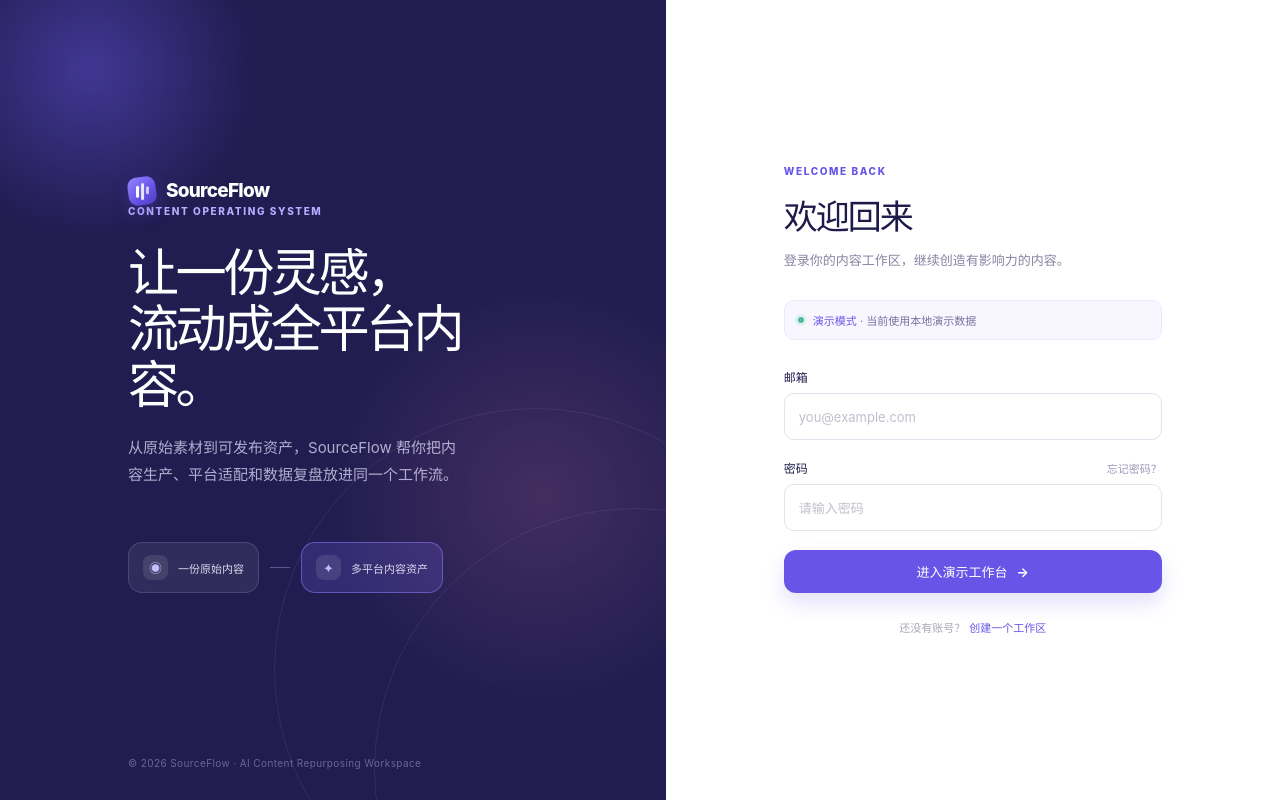
it: SourceFlow Web 首屏 › 拒绝过短密码并保留登录页
In the field labelled "邮箱": (973, 416) 784,393 -> 1162,440, type "creator@sourceflow.local"
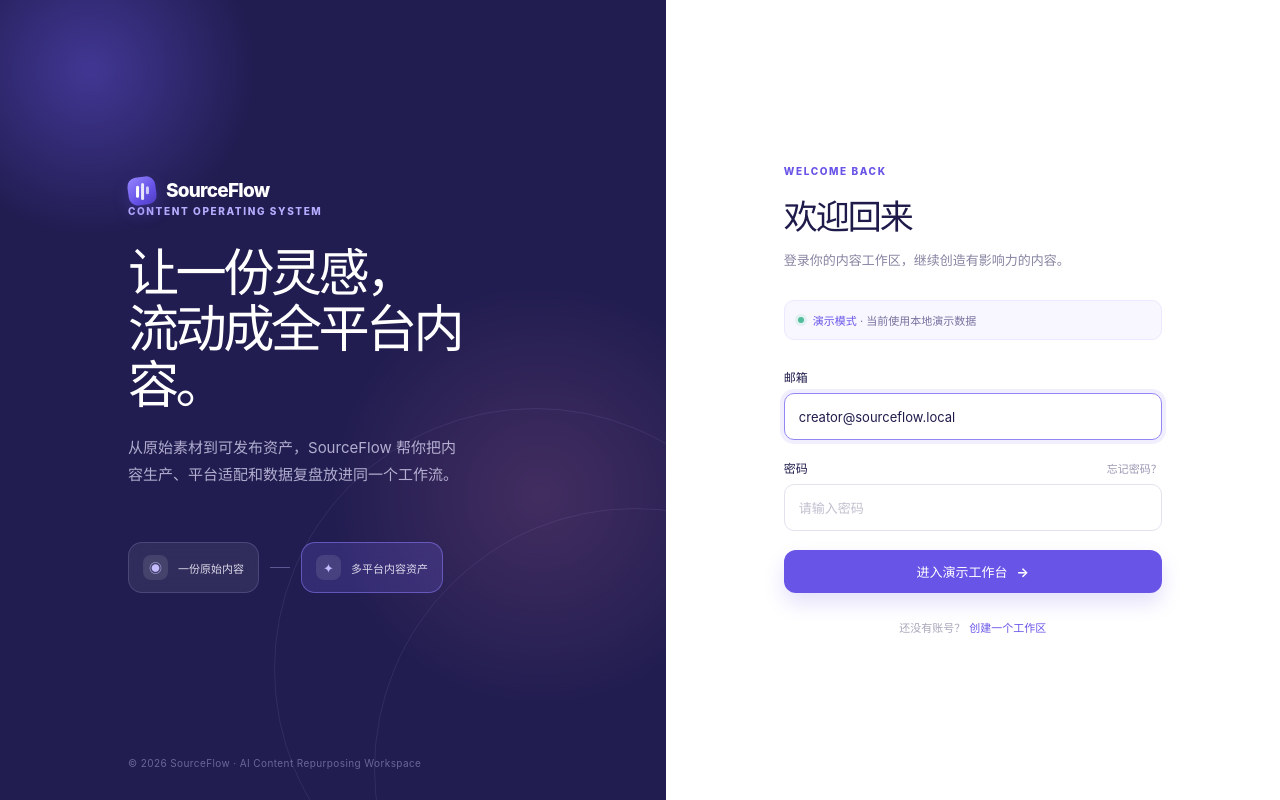
In the password field labelled "密码": (973, 508) 784,484 -> 1162,531, type "1234567"
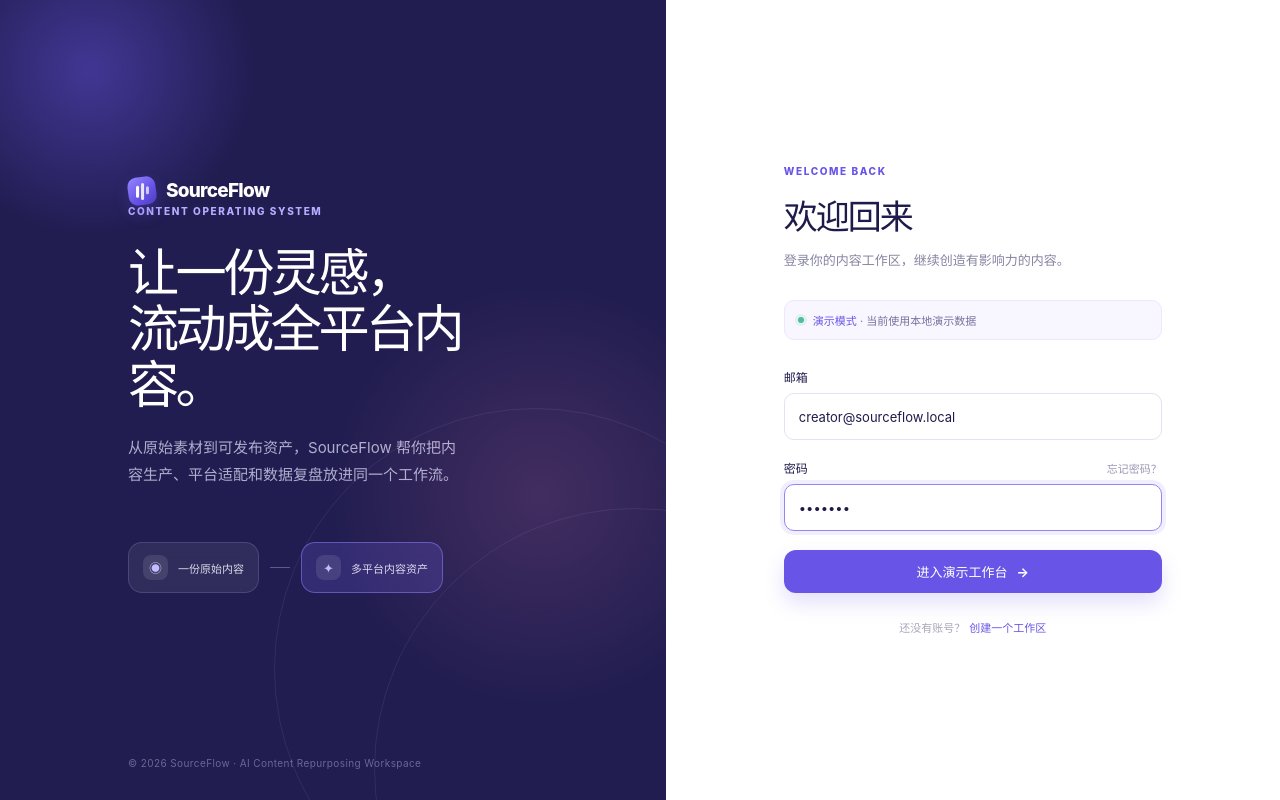
Click the button "进入演示工作台 →": (973, 572) 784,550 -> 1162,593
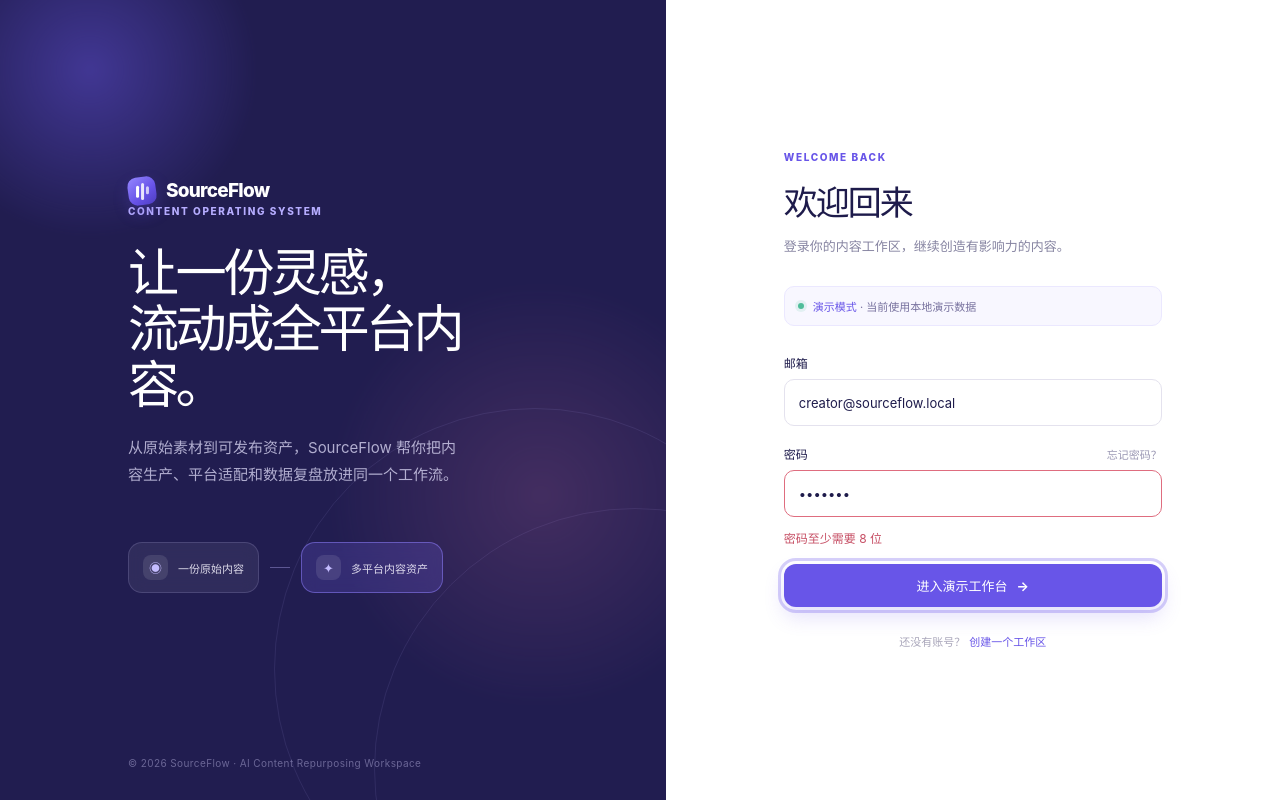
Expected: the message "密码至少需要 8 位" is shown, 784,531 -> 882,546
